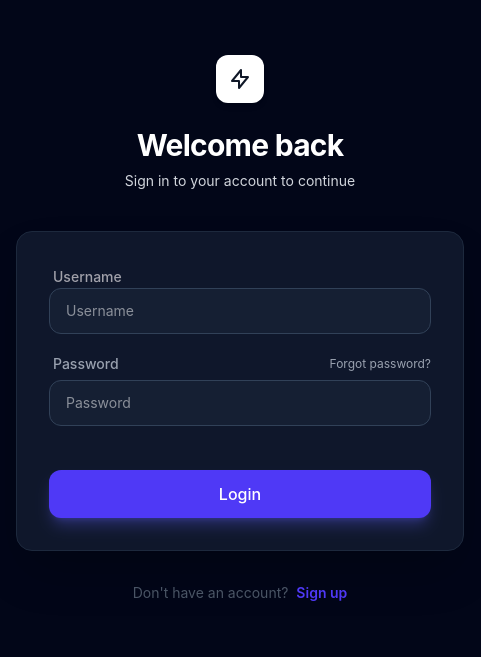
Test: Login Component › displays error message on failed login
The width and height of the screenshot is (481, 657).
Type "baduser" into the field with placeholder "Username".
click(240, 311); type("baduser")  # box [49,288,431,334]
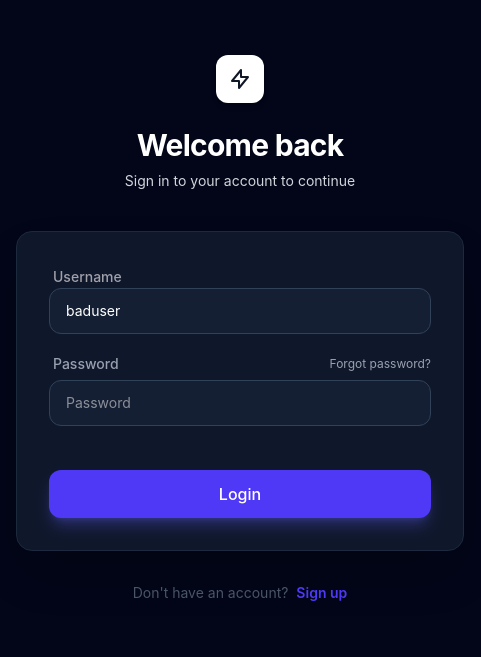
Type "wrong" into the password field with placeholder "Password".
click(240, 403); type("wrong")  # box [49,380,431,426]
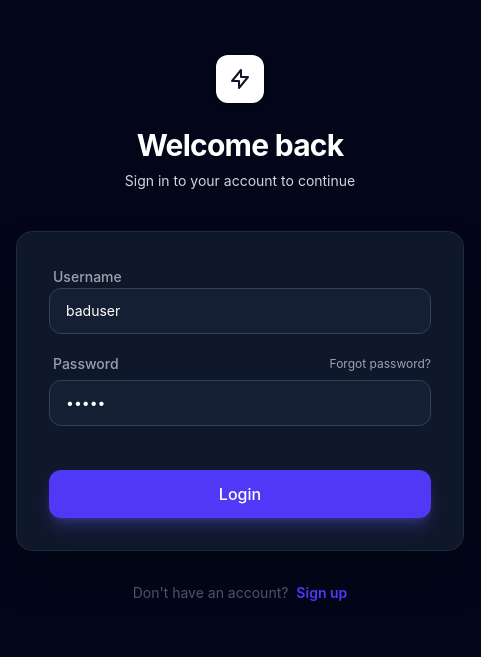
Click the button "Login".
click(240, 494)  # box [49,470,431,518]
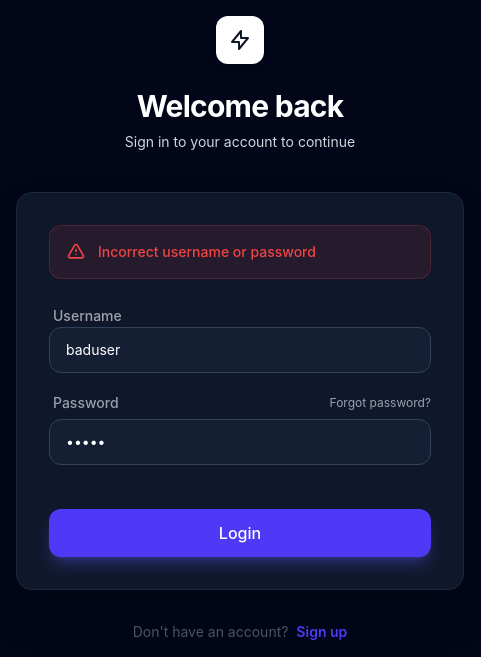
Expected: the text "Incorrect username or password" is shown, [49,225,431,279]
